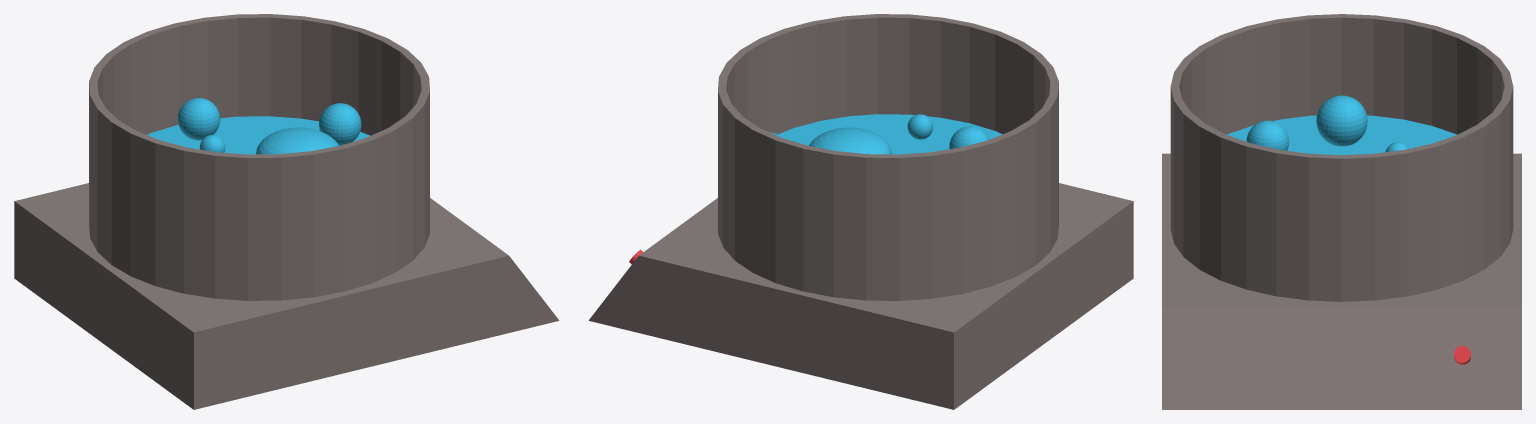
The model's file is pot_full.fbx.
The picture shows the model from 3 angles, left to right: view 1: azimuth 30°, elevation 25°; view 2: azimuth 150°, elevation 25°; view 3: azimuth 270°, elevation 25°; orthographic projection.
Parts seen in each view (by area): view 1: Cylinder, Cube, water, Sphere.001, Sphere.002, Sphere; view 2: Cylinder, Cube, water, Sphere.001, Sphere.005, Sphere.004; view 3: Cylinder, Cube, water, Sphere.003, Sphere.005.
Boxes of the visible parts, left/top/right/bottom form: Cylinder: left=89, top=14, right=429, bottom=300; Cube: left=14, top=183, right=559, bottom=409; water: left=147, top=116, right=370, bottom=154; Sphere.001: left=256, top=127, right=338, bottom=154; Sphere.002: left=177, top=98, right=220, bottom=140; Sphere: left=319, top=103, right=361, bottom=145; Cylinder: left=718, top=14, right=1058, bottom=300; Cube: left=588, top=183, right=1133, bottom=409; water: left=778, top=114, right=1002, bottom=154; Sphere.001: left=809, top=127, right=891, bottom=154; Sphere.005: left=949, top=126, right=989, bottom=149; Sphere.004: left=907, top=114, right=932, bottom=139; Cylinder: left=1170, top=14, right=1513, bottom=301; Cube: left=1162, top=153, right=1521, bottom=409; water: left=1227, top=115, right=1456, bottom=154; Sphere.003: left=1316, top=95, right=1367, bottom=146; Sphere.005: left=1246, top=120, right=1289, bottom=150.
Bounding box in the file's own units: 494 × 284 × 420.
